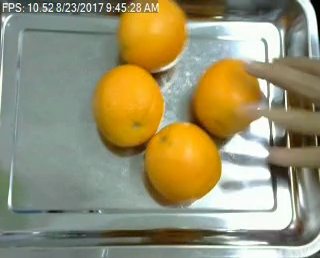Orange: (142, 121, 219, 201), (93, 65, 164, 147), (117, 1, 187, 74)
